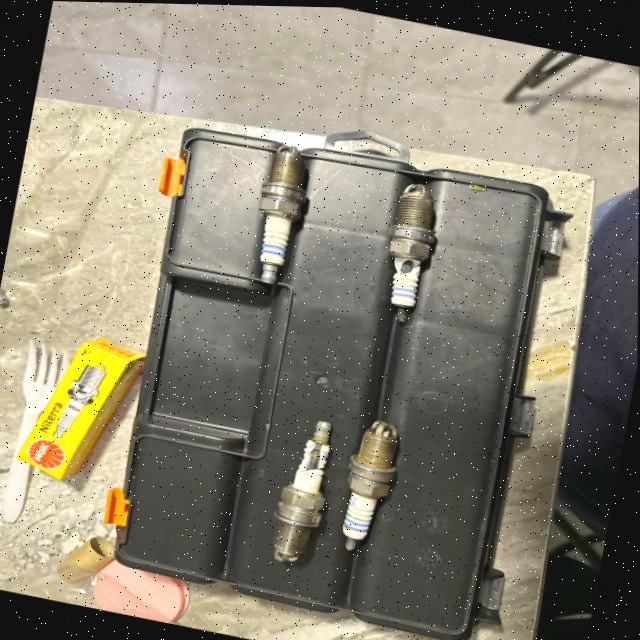damaged_spark-plug: (362, 170, 454, 328), (260, 409, 341, 573)
spark-plug: (328, 404, 409, 562), (234, 134, 314, 290)
